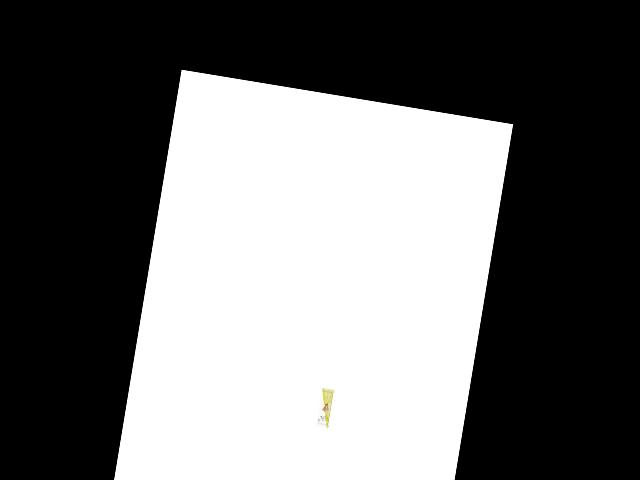chocolate: (312, 385, 338, 431)
